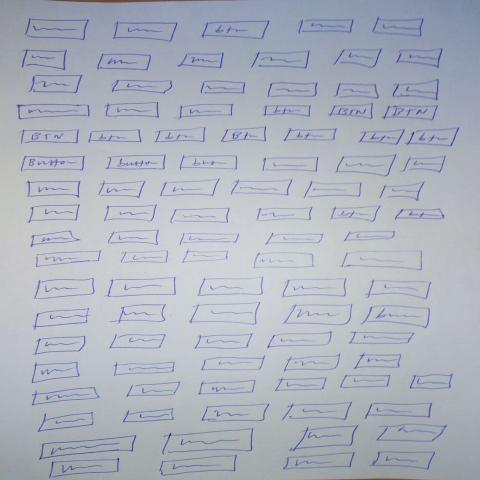Button: (159, 429, 256, 457), (39, 436, 138, 461), (358, 305, 433, 329), (103, 277, 179, 300), (23, 18, 91, 42), (200, 20, 274, 41), (406, 127, 461, 151), (19, 155, 86, 173), (178, 154, 240, 173), (105, 154, 168, 172), (176, 103, 235, 122), (19, 129, 80, 146), (330, 205, 384, 224), (381, 105, 440, 122), (282, 127, 339, 143), (153, 129, 210, 145), (219, 127, 270, 144), (88, 130, 145, 145), (327, 103, 376, 120), (358, 130, 405, 147), (393, 208, 446, 221), (262, 105, 313, 118)
